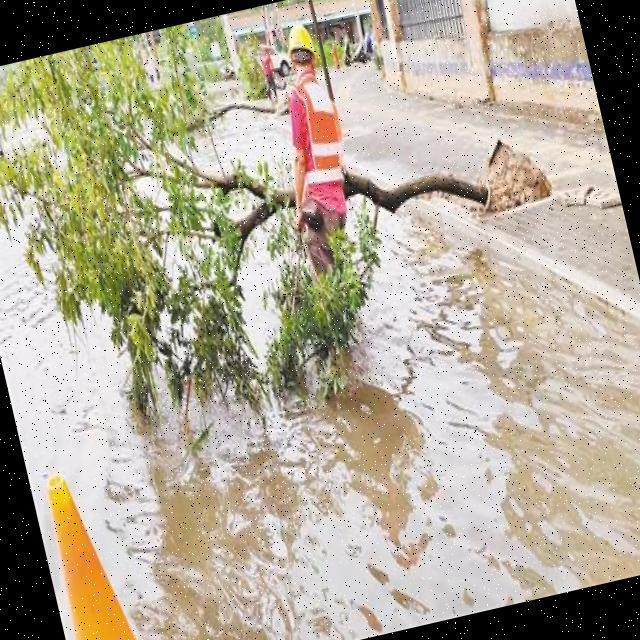fallen_object: (0, 0, 583, 452)
